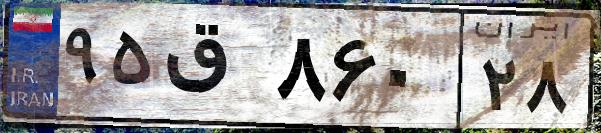0: (385, 28, 445, 110)
2: (475, 38, 525, 113)
5: (110, 28, 158, 98)
6: (330, 28, 385, 110)
8: (270, 28, 330, 110), (525, 38, 570, 115)
9: (57, 26, 110, 100)
ق: (158, 20, 270, 120)
